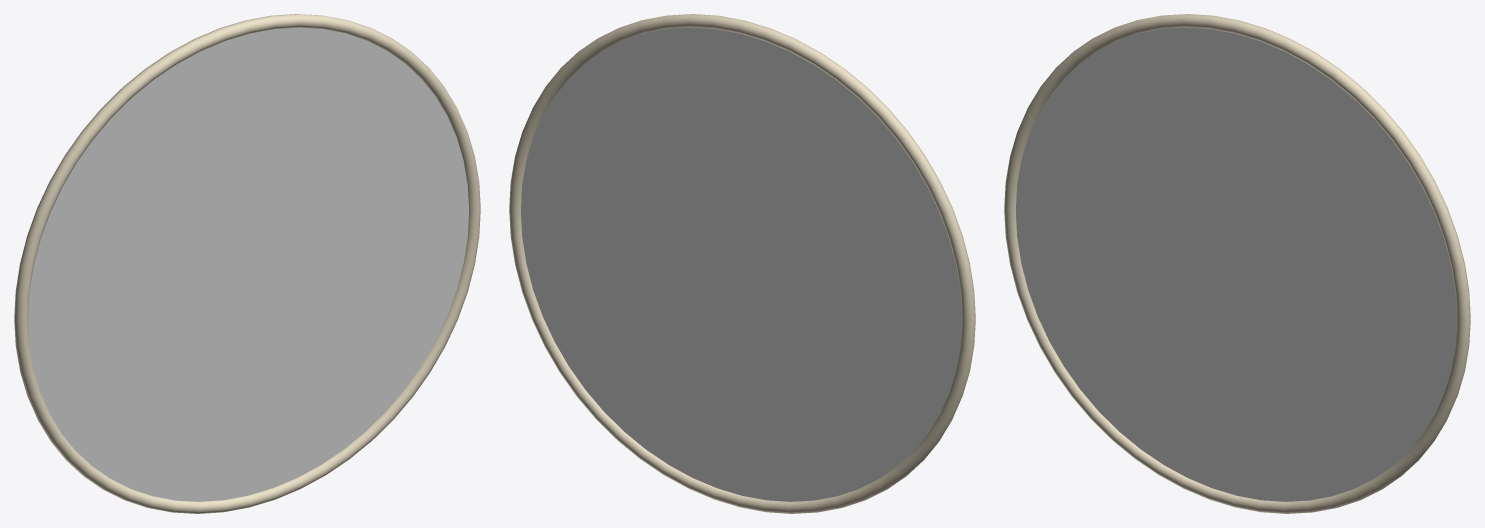
The model's file is it_mirror_round.glb.
The picture shows the model from 3 angles, left to right: view 1: azimuth 30°, elevation 25°; view 2: azimuth 150°, elevation 25°; view 3: azimuth 330°, elevation 25°; orthographic projection.
Parts seen in each view (by area): view 1: glass, ring; view 2: glass, ring; view 3: glass, ring.
Boxes of the visible parts, x1,y1,x2,y2 form: glass: (28, 27, 469, 501); ring: (14, 14, 480, 513); glass: (520, 27, 961, 501); ring: (509, 14, 975, 513); glass: (1015, 27, 1456, 501); ring: (1004, 14, 1470, 513).
Bounding box in the file's own units: 0.924 × 0.924 × 0.0228.
